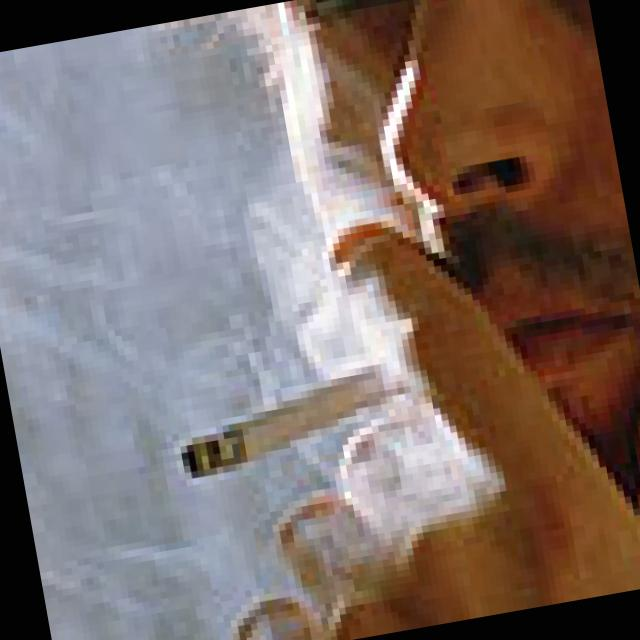cigarette: (151, 336, 431, 501)
